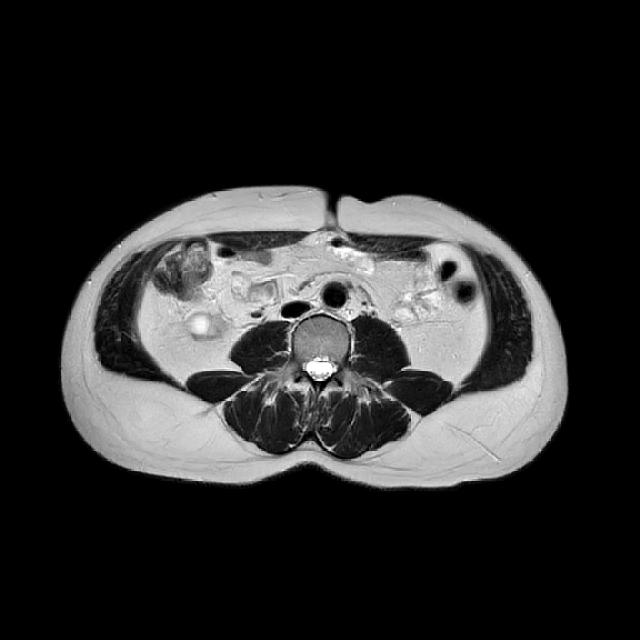sag: (186, 311, 232, 341)
